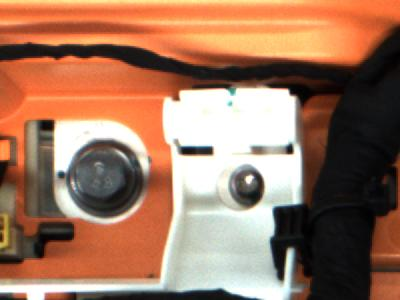nut_b: (64, 134, 147, 219)
